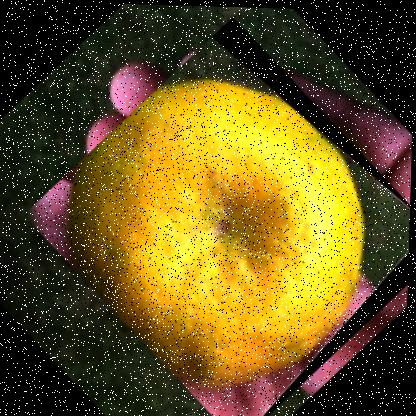orange: (18, 8, 415, 415)
